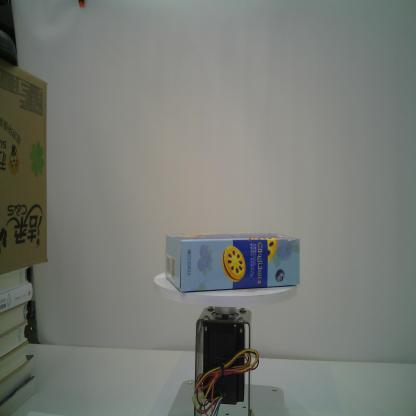Dessert: (164, 230, 301, 294)
